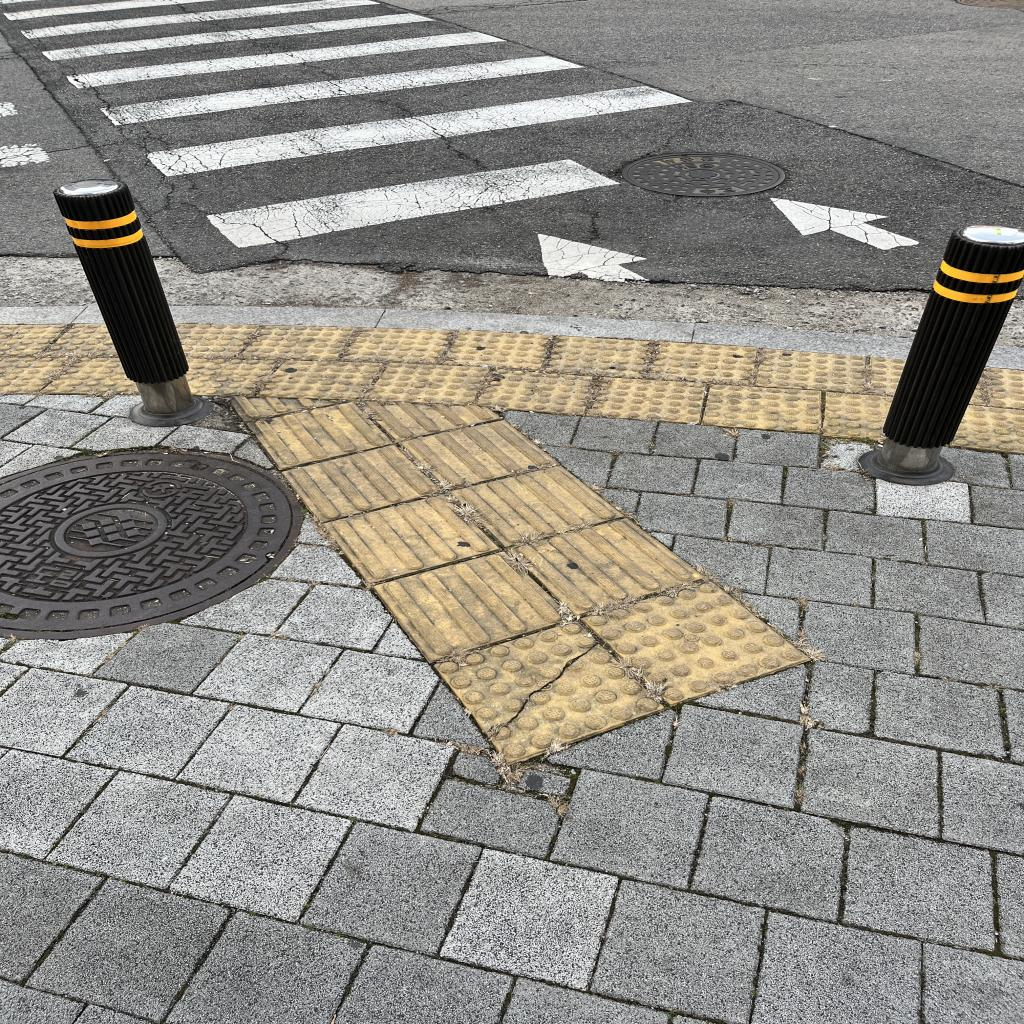Stop block broken: (436, 601, 664, 774)
Stop block normal: (584, 556, 809, 720)
Straight block normal: (376, 535, 569, 668), (512, 500, 702, 626), (324, 484, 498, 590), (450, 452, 623, 556), (283, 436, 439, 526), (402, 411, 556, 494)
